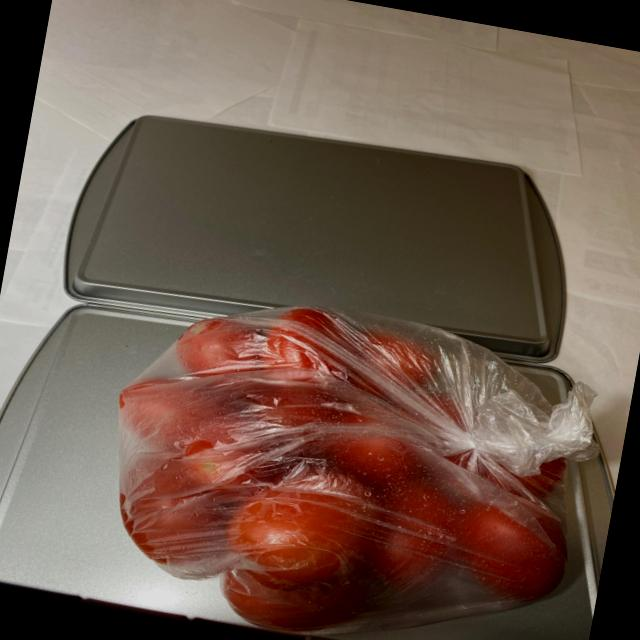tomato: (86, 280, 588, 640)
